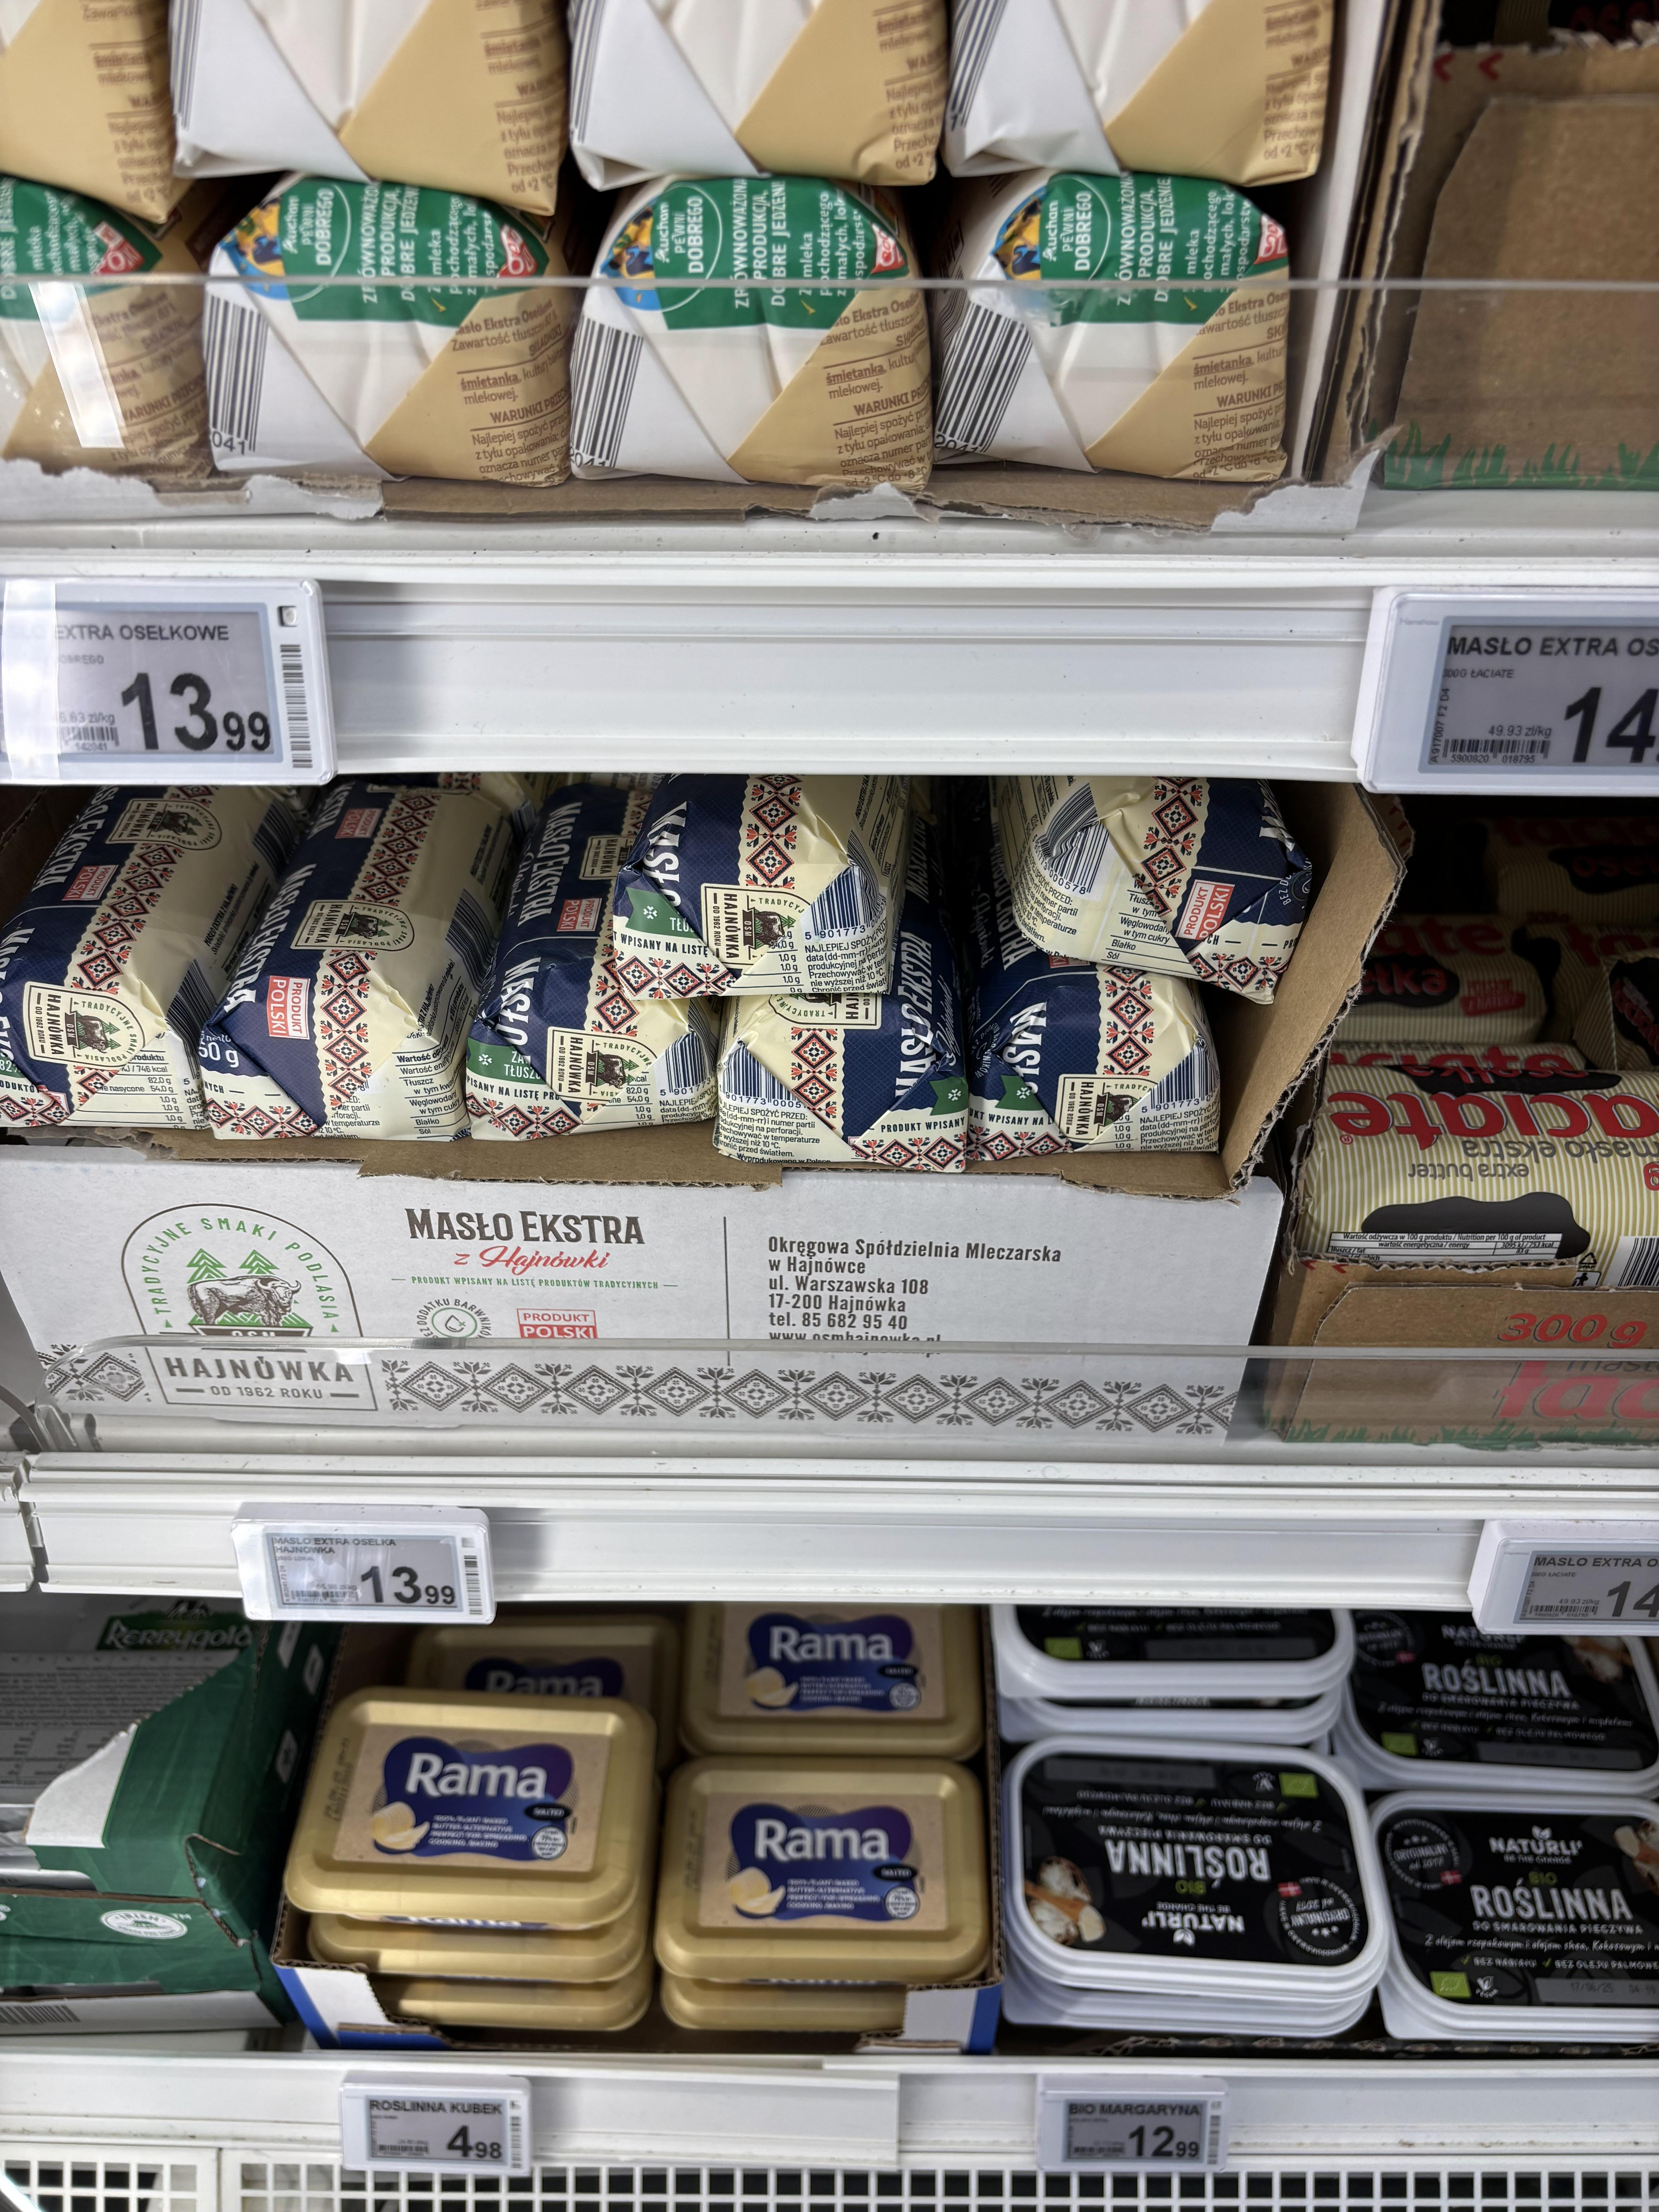Butter: (586, 171, 969, 488), (927, 164, 1290, 481), (199, 228, 559, 507), (223, 850, 497, 1134), (1307, 1055, 1659, 1268), (605, 801, 927, 1005), (964, 960, 1246, 1170), (12, 860, 240, 1115), (1032, 791, 1351, 965)
